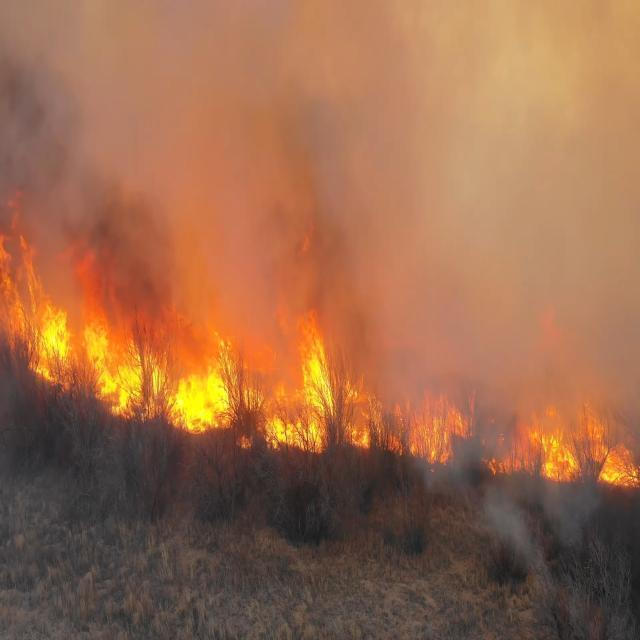Fire: (259, 315, 353, 462), (156, 328, 259, 452), (519, 390, 632, 491), (0, 241, 65, 399), (75, 312, 161, 419), (387, 381, 469, 472)
Smoke: (0, 15, 186, 211)
